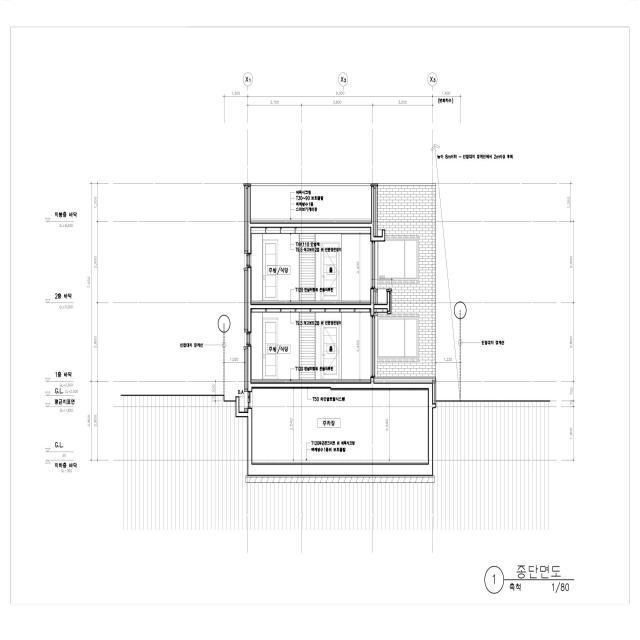space_kitchen: (251, 228, 371, 304), (251, 309, 371, 383)
space_other: (252, 388, 428, 464)
